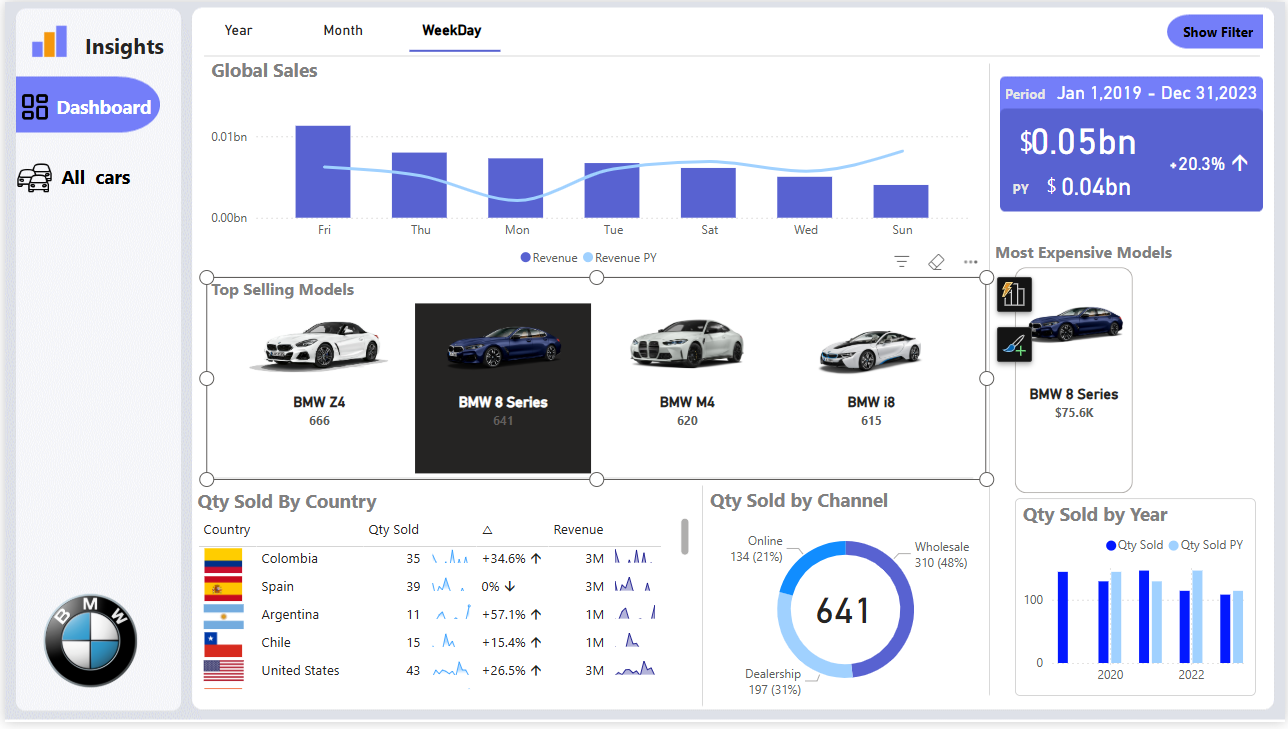

This screenshot's page, from the dashboard's own definition file:
{"tool":"powerbi","page":{"name":"BMW Dashboard","canvas":[1280,720],"ordinal":0},"visuals":[{"type":"advancedSlicerVisual","fields":{"Values":["PeriodSlicer.PeriodSlicer"]},"box":[201.1,0,300.8,55.2],"z":0},{"type":"textbox","box":[75.3,23.8,98.3,40],"z":0,"group":"g2"},{"type":"image","box":[10.3,13.8,68.3,48.3],"z":1000,"group":"g2"},{"type":"lineClusteredColumnComboChart","title":" Global Sales","fields":{"Category":["Calendar.Year"],"Y":["All Measures.Revenue"],"Y2":["All Measures.Revenue PY"]},"box":[201.1,55.2,768.9,218.9],"z":1000},{"type":"card","fields":{"Values":["All Measures.Revenue"]},"box":[1007.5,110,142.5,52.5],"z":2000,"group":"g3"},{"type":"card","fields":{"Values":["All Measures.Revenue PY"]},"box":[1030,156.2,122.5,55],"z":3000,"group":"g4"},{"type":"textbox","box":[1002,172.6,53.4,39.2],"z":4000,"group":"g4"},{"type":"card","fields":{"Values":["All Measures.Revenue Variance % Arrow"]},"box":[1135,135.4,133,55.1],"z":5000},{"type":"card","fields":{"Values":["All Measures.Selected Period"]},"box":[1037.6,64.1,229.6,55.2],"z":6000},{"type":"textbox","box":[994.9,77,60.5,44.5],"z":7000},{"type":"advancedSlicerVisual","title":"Top Selling Models","fields":{"Values":["dimModel.Model"]},"box":[201.3,274.5,780.2,202.5],"z":8000},{"type":"advancedSlicerVisual","title":"Most Expensive Models","fields":{"Values":["dimModel.Model"]},"box":[985.2,238.5,294.8,257.7],"z":9000},{"type":"clusteredColumnChart","title":"Qty Sold by Year","fields":{"Y":["All Measures.Qty Sold","All Measures.Qty Sold PY"],"Category":["Calendar.Year"]},"box":[1010.3,496.2,240.9,197.8],"z":10000},{"type":"donutChart","fields":{"Y":["All Measures.Qty Sold"],"Category":["dimChannel.Channel"]},"box":[699.9,485.4,281.6,220.5],"z":11000},{"type":"card","fields":{"Values":["All Measures.Qty Sold"]},"box":[783.8,575.3,110.3,59.9],"z":12000},{"type":"tableEx","title":"Qty Sold By Country","fields":{"Values":["dimCountry.Flag","dimCountry.Country","All Measures.Qty Sold","All Measures.Qty Sold Sparkline","All Measures.Qty Sold Variance % Arrow","All Measures.Revenue","All Measures.Revenue Sparkline"]},"box":[187,486.6,501.7,206.1],"z":13000},{"type":"textbox","box":[45.7,87.1,115.7,35.7],"z":14000},{"type":"image","box":[10,82.9,40,44.3],"z":15000},{"type":"image","box":[7.1,147.1,44.3,57.1],"z":16000},{"type":"textbox","box":[51.4,157.1,121.4,44.3],"z":17000},{"type":"actionButton","box":[6.2,153.8,172.5,45],"z":18000},{"type":"group","id":"g1","title":"Filter Pane","box":[905.7,12.5,353.3,471.7],"z":19000},{"type":"image","box":[34,584.1,103.2,108.9],"z":20000},{"type":"actionButton","box":[1167.5,12.5,91.4,34.3],"z":20001,"group":"g1"},{"type":"group","id":"g2","title":"Group 1","box":[10.3,13.8,163.3,50],"z":20001},{"type":"textbox","box":[1008.7,115,50,46.2],"z":20002,"group":"g3"},{"type":"textbox","box":[1036.2,165,42.5,38.8],"z":20003,"group":"g4"},{"type":"group","id":"g3","title":"Group 2","box":[1007.5,110,142.5,52.5],"z":20004},{"type":"group","id":"g4","title":"Group 3","box":[1002,156.2,150.5,55.5],"z":20005}]}

Visuals, with their boxes on the page's 1280x720 design canvas (x1, y1, x2, y2). These are canvas units, not pixel positions in the 1288x729 screenshot, which may show the page scaled, cropped or inside an application window:
advancedSlicerVisual - PeriodSlicer.PeriodSlicer: {"x1": 201, "y1": 0, "x2": 502, "y2": 55}
textbox: {"x1": 75, "y1": 24, "x2": 174, "y2": 64}
image: {"x1": 10, "y1": 14, "x2": 79, "y2": 62}
" Global Sales" lineClusteredColumnComboChart: {"x1": 201, "y1": 55, "x2": 970, "y2": 274}
card - All Measures.Revenue: {"x1": 1008, "y1": 110, "x2": 1150, "y2": 162}
card - All Measures.Revenue PY: {"x1": 1030, "y1": 156, "x2": 1152, "y2": 211}
textbox: {"x1": 1002, "y1": 173, "x2": 1055, "y2": 212}
card - All Measures.Revenue Variance % Arrow: {"x1": 1135, "y1": 135, "x2": 1268, "y2": 190}
card - All Measures.Selected Period: {"x1": 1038, "y1": 64, "x2": 1267, "y2": 119}
textbox: {"x1": 995, "y1": 77, "x2": 1055, "y2": 122}
"Top Selling Models" advancedSlicerVisual: {"x1": 201, "y1": 274, "x2": 982, "y2": 477}
"Most Expensive Models" advancedSlicerVisual: {"x1": 985, "y1": 238, "x2": 1280, "y2": 496}
"Qty Sold by Year" clusteredColumnChart: {"x1": 1010, "y1": 496, "x2": 1251, "y2": 694}
donutChart - All Measures.Qty Sold x dimChannel.Channel: {"x1": 700, "y1": 485, "x2": 982, "y2": 706}
card - All Measures.Qty Sold: {"x1": 784, "y1": 575, "x2": 894, "y2": 635}
"Qty Sold By Country" tableEx: {"x1": 187, "y1": 487, "x2": 689, "y2": 693}
textbox: {"x1": 46, "y1": 87, "x2": 161, "y2": 123}
image: {"x1": 10, "y1": 83, "x2": 50, "y2": 127}
image: {"x1": 7, "y1": 147, "x2": 51, "y2": 204}
textbox: {"x1": 51, "y1": 157, "x2": 173, "y2": 201}
actionButton: {"x1": 6, "y1": 154, "x2": 179, "y2": 199}
"Filter Pane" group: {"x1": 906, "y1": 12, "x2": 1259, "y2": 484}
image: {"x1": 34, "y1": 584, "x2": 137, "y2": 693}
actionButton: {"x1": 1168, "y1": 12, "x2": 1259, "y2": 47}
"Group 1" group: {"x1": 10, "y1": 14, "x2": 174, "y2": 64}
textbox: {"x1": 1009, "y1": 115, "x2": 1059, "y2": 161}
textbox: {"x1": 1036, "y1": 165, "x2": 1079, "y2": 204}
"Group 2" group: {"x1": 1008, "y1": 110, "x2": 1150, "y2": 162}
"Group 3" group: {"x1": 1002, "y1": 156, "x2": 1152, "y2": 212}
